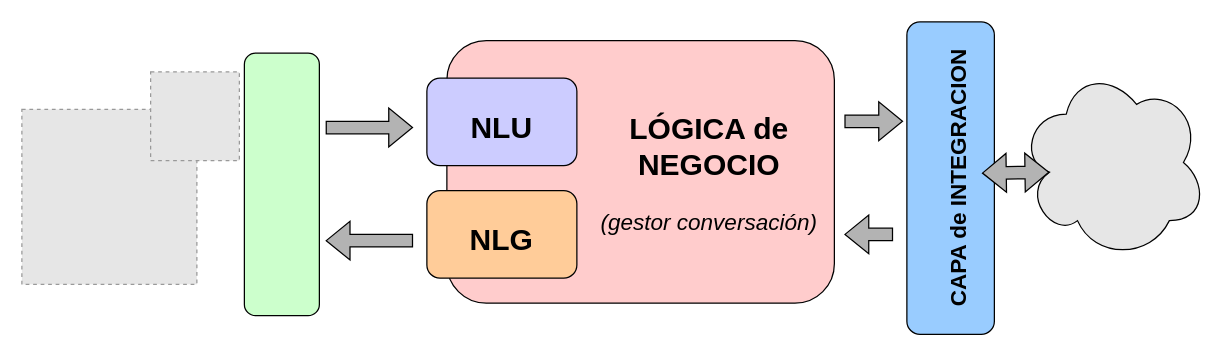
This 1229x356 diagram has some shape labels left out. Grey dashed boxes stand in for pictures. Here are the shapes that lost their labels. From the top down, the box of each, then its label:
(1018, 64, 1207, 259): datos backend
(243, 52, 319, 316): CANAL
